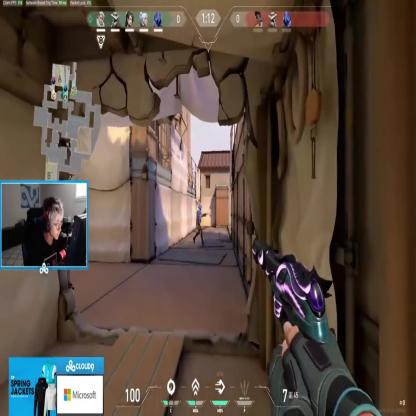enemy: (194, 202, 204, 246)
enemy_head: (198, 204, 202, 210)
